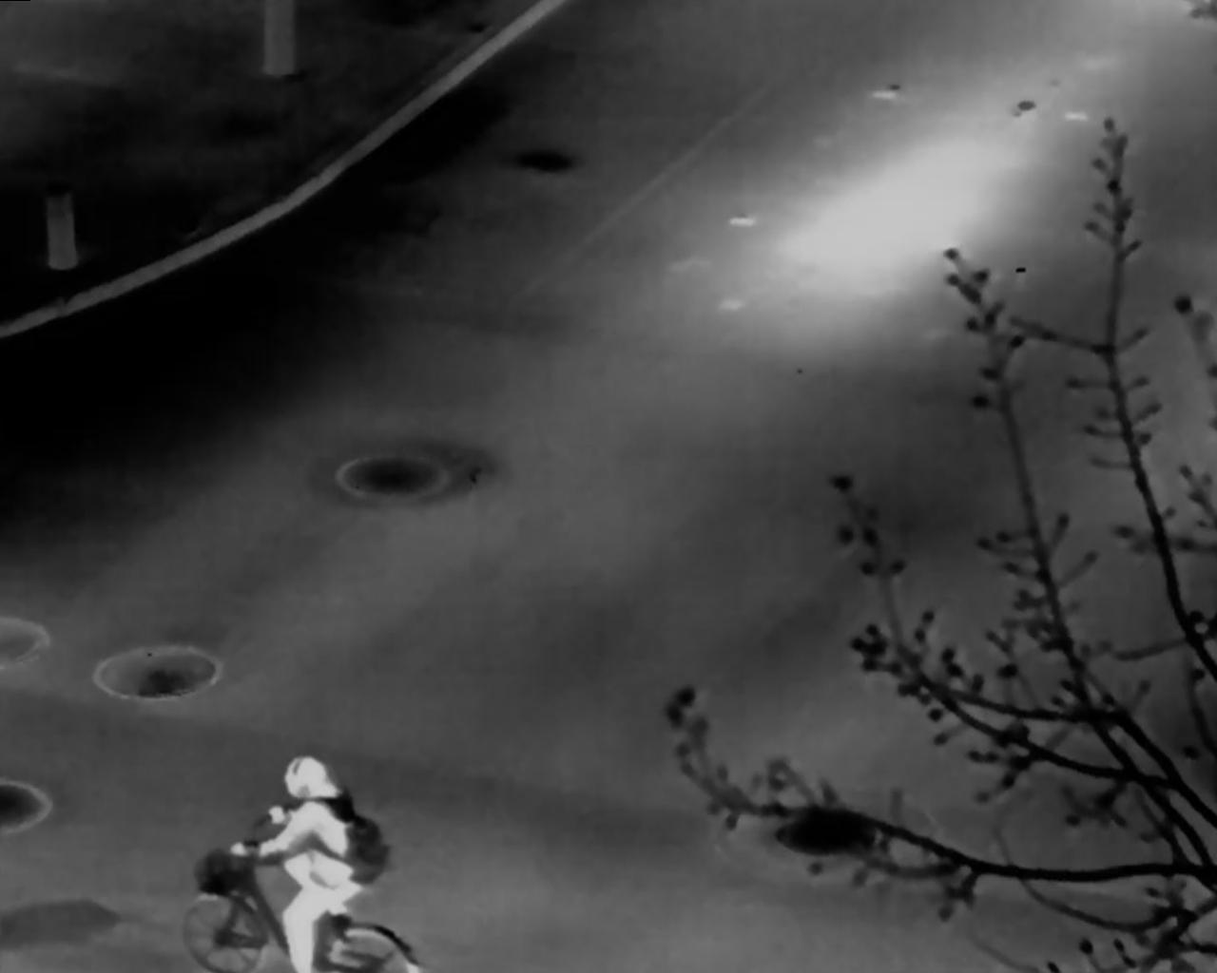person: (230, 755, 390, 973)
